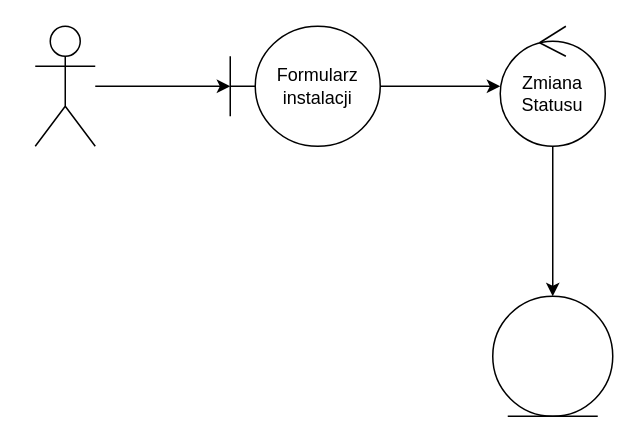
Image size: 639x443. Some labels were removed from this diagram. Each missing label, with the centre of its shape:
Serwisant: (64,85)
Wyposażenie: (552,355)
